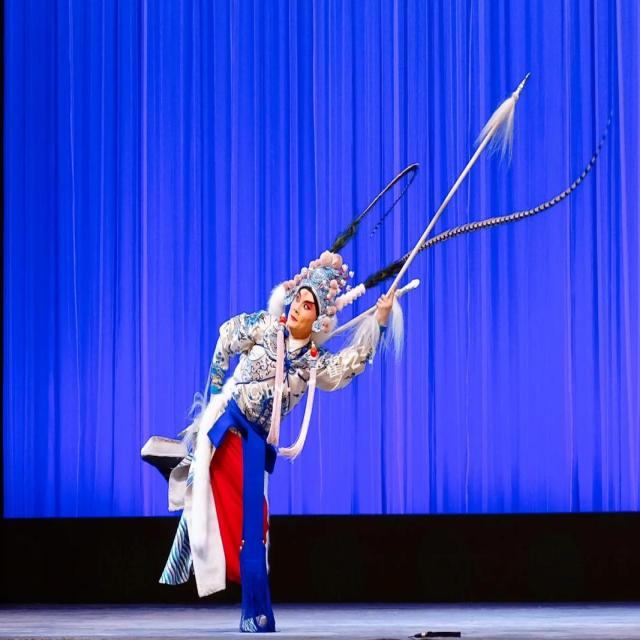Reeves-s Pheasant: (401, 96, 614, 261)
